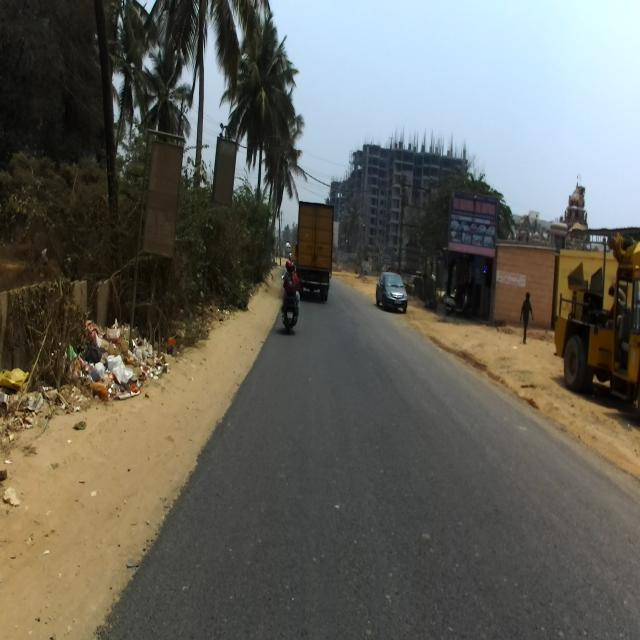sign board ahead at: (134, 123, 187, 281)
truck ahead at: (296, 206, 338, 305)
